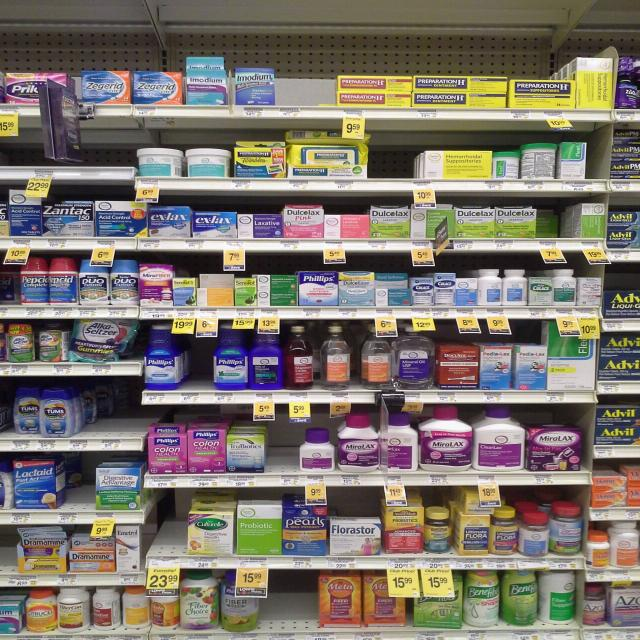unorganised: (524, 141, 559, 179), (286, 130, 370, 145), (13, 389, 40, 435), (347, 330, 367, 386), (2, 262, 25, 305), (537, 208, 564, 239), (310, 330, 324, 385), (197, 274, 234, 287)
